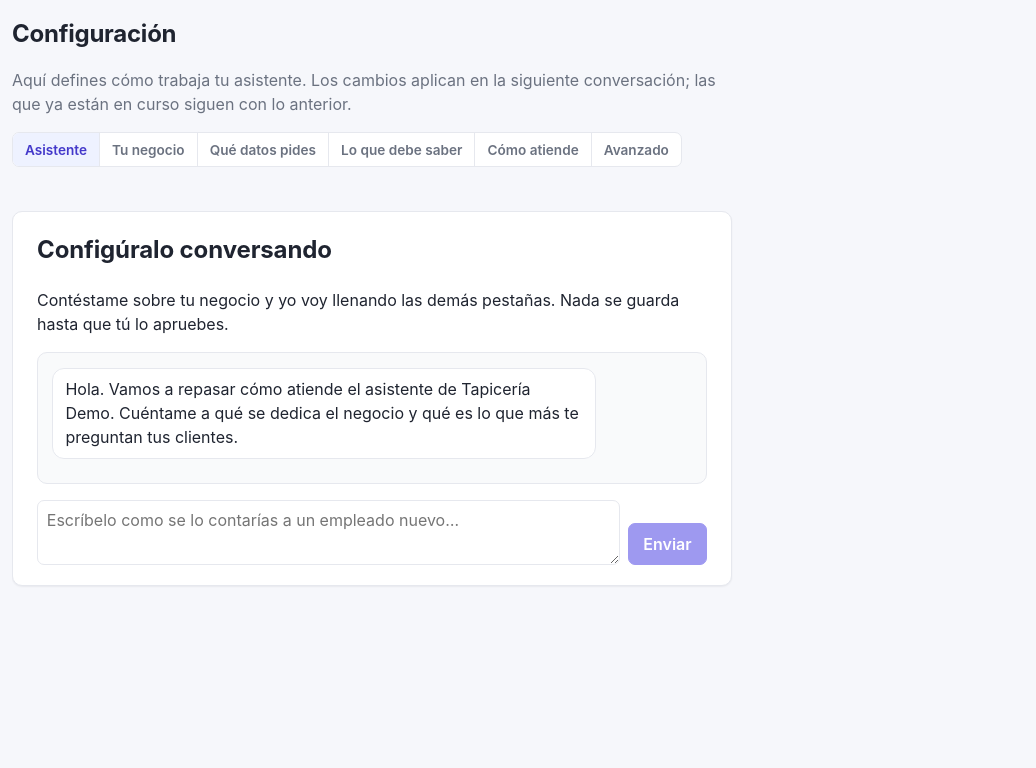
con modelo disponible, la propuesta se aplica al formulario sin guardarla
expect the tab "Asistente" is shown: met, box left=13, top=133, right=100, bottom=166
Click the tab "Tu negocio" at {"x": 149, "y": 150}, box left=100, top=133, right=198, bottom=166
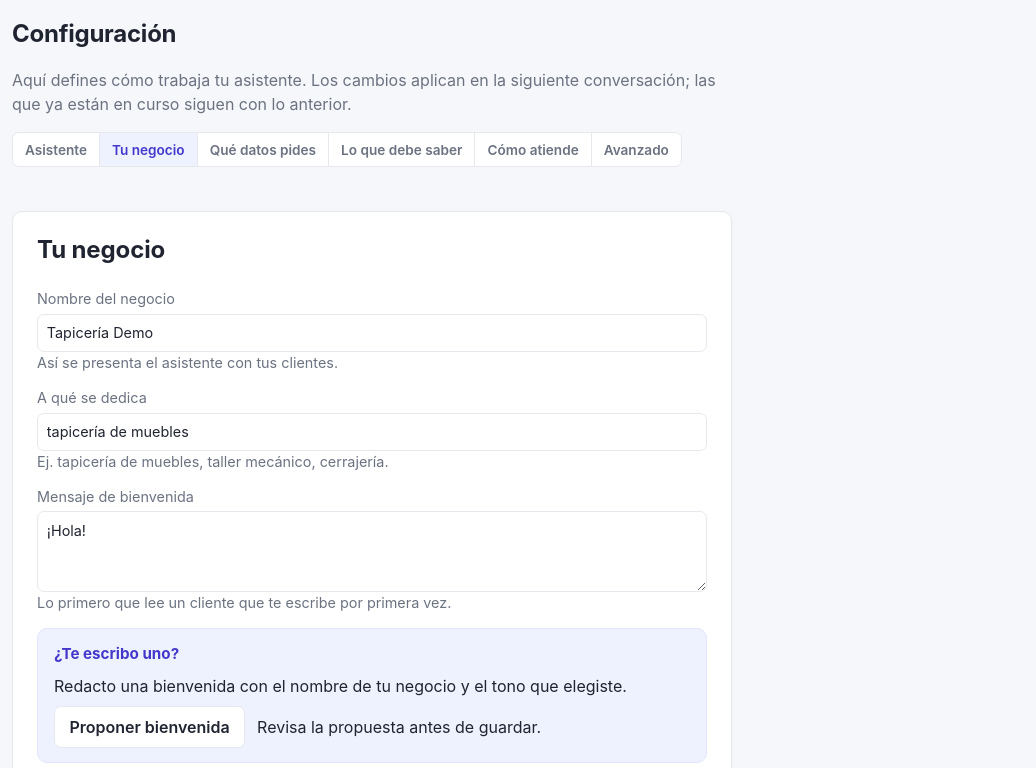
Click the button "Proponer bienvenida" at {"x": 150, "y": 727}, box left=54, top=706, right=245, bottom=748
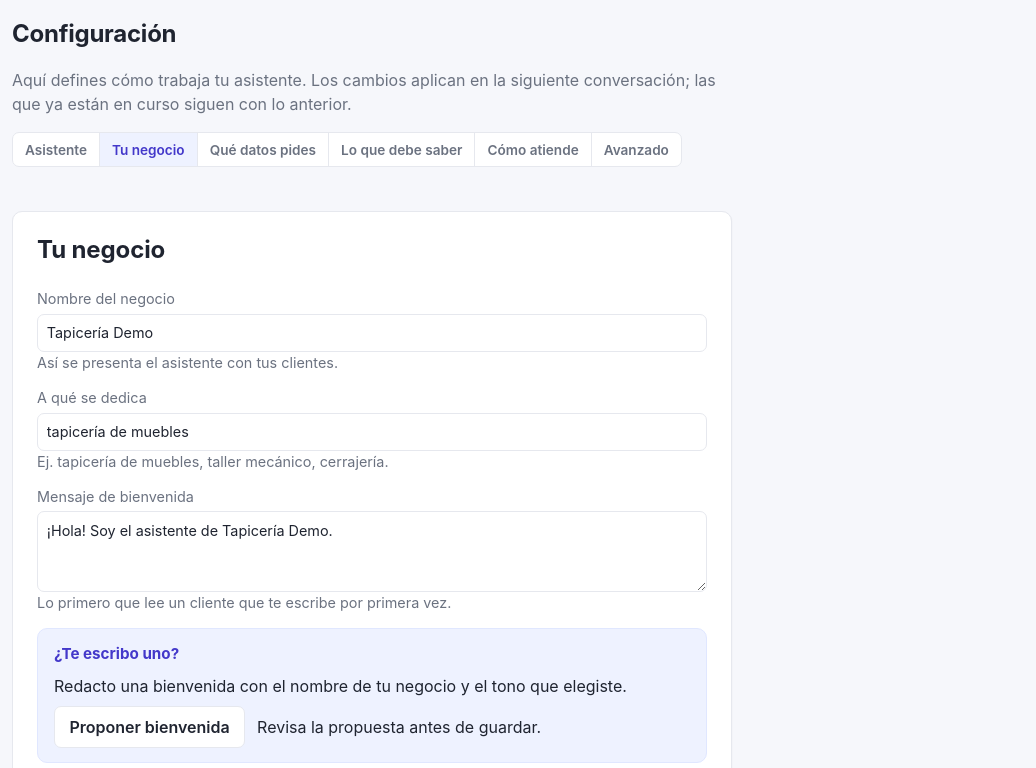
expect the text box showing "¡Hola! Soy el asistente de Tapicería Demo." is shown: met, box left=37, top=511, right=707, bottom=592
